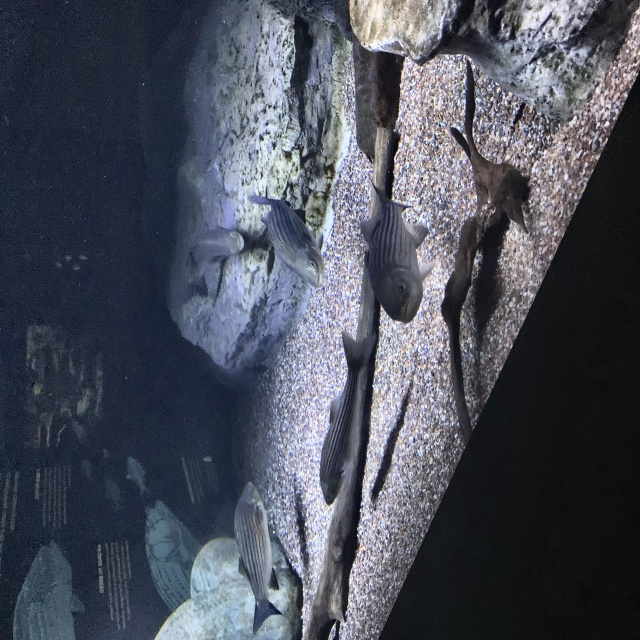fish: (360, 178, 434, 324), (319, 330, 373, 506), (232, 480, 283, 637), (249, 193, 327, 291), (186, 223, 245, 271)
